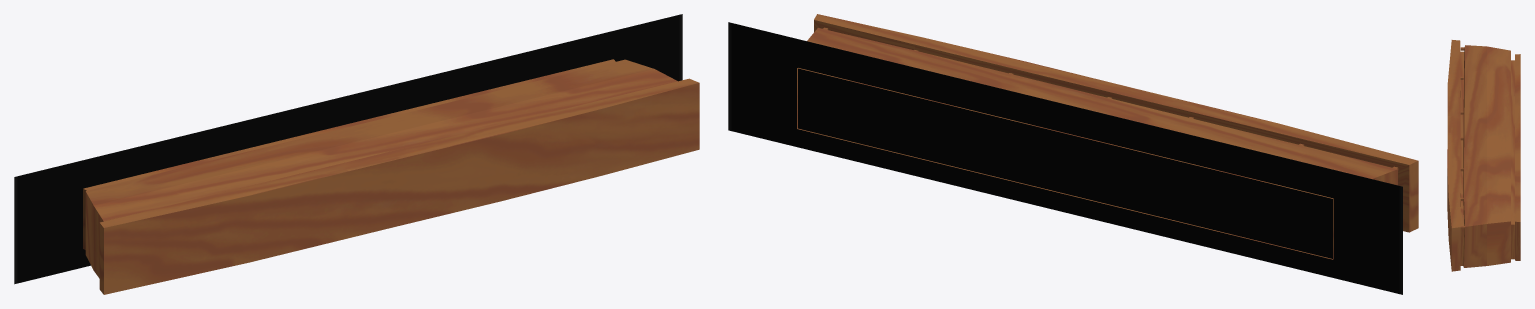
Rendered from shop_counter.fbx.
The picture shows the model from 3 angles, left to right: view 1: azimuth 30°, elevation 25°; view 2: azimuth 150°, elevation 25°; view 3: azimuth 270°, elevation 25°; orthographic projection. The views are drawn at different scales.
Parts seen in each view (by area): view 1: o7, o4, shadow, o5; view 2: shadow, o4, o5, o2; view 3: o4, o6, o7.
Part boxes in pixels (x1,y1,x2,y2): o7: [104, 83, 699, 294]; o4: [83, 59, 698, 227]; shadow: [14, 14, 682, 284]; o5: [83, 188, 103, 294]; shadow: [728, 22, 1402, 294]; o4: [797, 14, 1417, 198]; o5: [1333, 161, 1418, 259]; o2: [797, 128, 1332, 259]; o4: [1447, 40, 1520, 228]; o6: [1451, 221, 1520, 271]; o7: [1447, 168, 1451, 268].
Bounding box in the file's own units: 422 × 64.74 × 61.83.
Materials: 2 (2 with a texture image).
